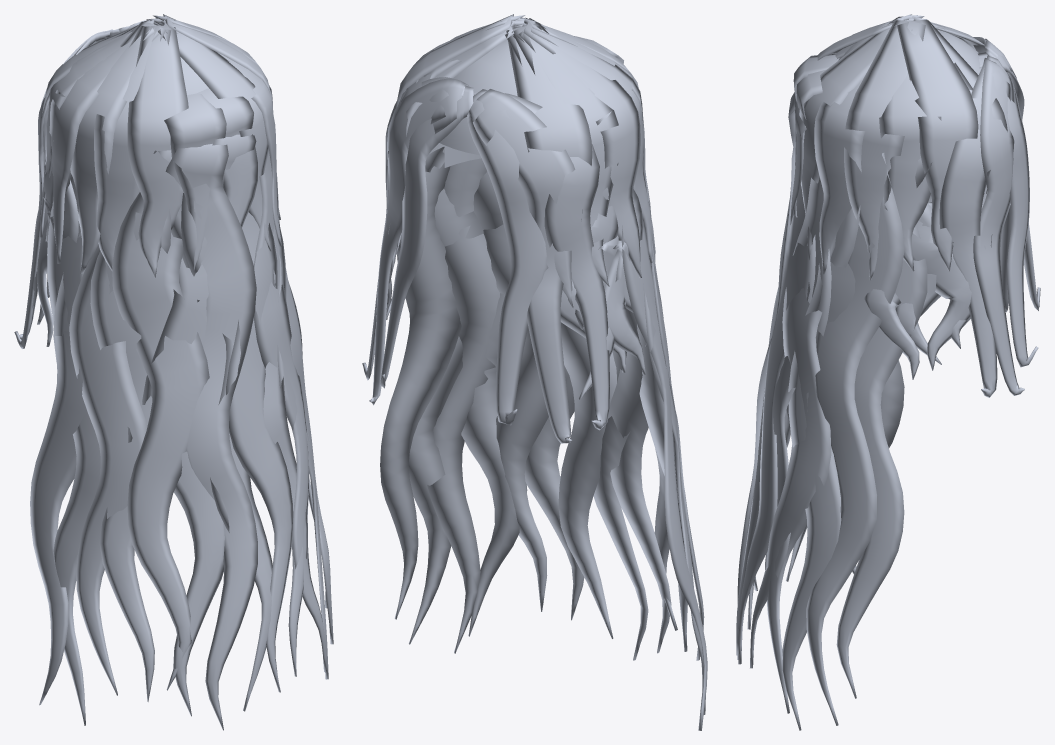
The model's file is astrea_hair.fbx.
3 views of the same model, side by side, from view 1: azimuth 30°, elevation 25°; view 2: azimuth 150°, elevation 25°; view 3: azimuth 270°, elevation 25° (orthographic). The views are drawn at different scales.
Visible parts, largest first — view 1: AstreaHair; view 2: AstreaHair; view 3: AstreaHair.
Part boxes in pixels (x1=…): AstreaHair: x1=14, y1=14, x2=333, y2=730; AstreaHair: x1=362, y1=14, x2=707, y2=730; AstreaHair: x1=736, y1=14, x2=1040, y2=730.
Bounding box in the file's own units: 231 × 501 × 211.
